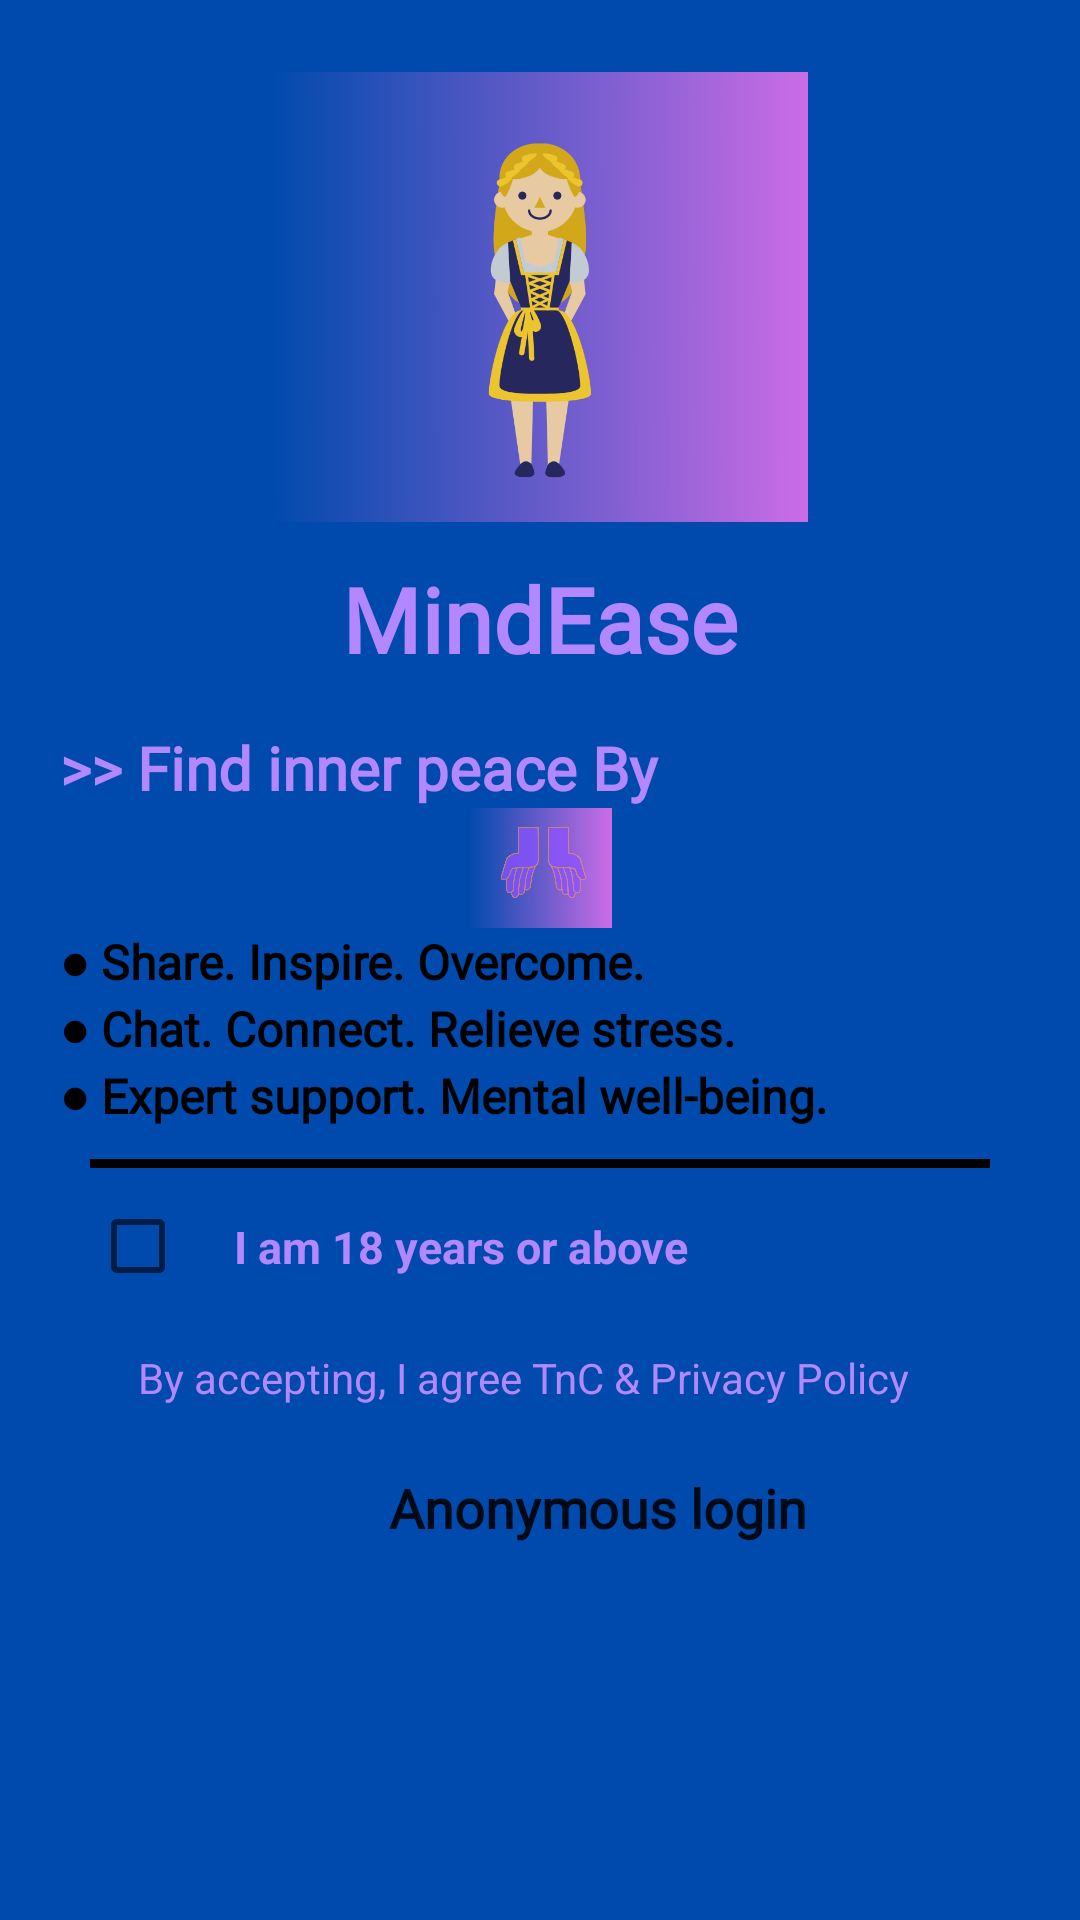

Icon click points for this 1080px×1920px phone screenshot, format (x,y):
open hand: (548,868)
